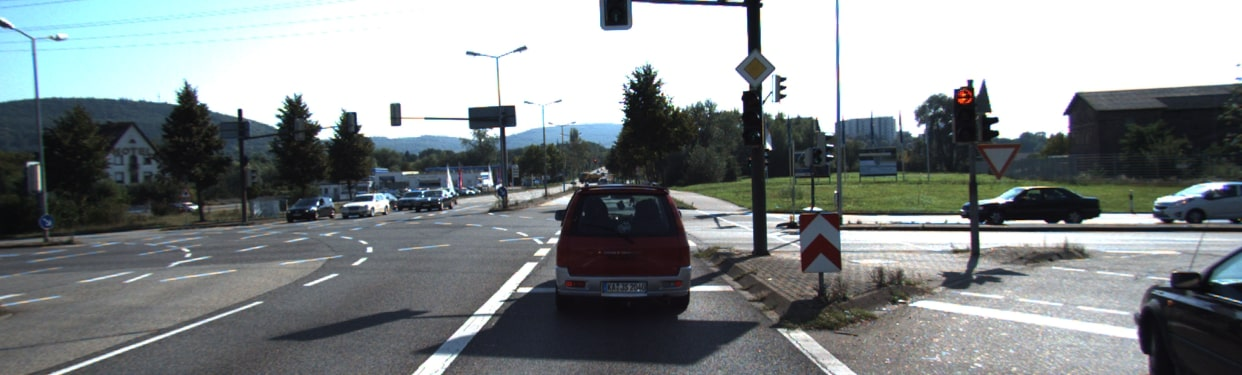car: (556, 185, 692, 314), (1143, 247, 1242, 374), (961, 178, 1103, 235), (1155, 181, 1242, 222), (284, 194, 336, 229), (348, 187, 388, 225), (414, 188, 457, 214), (397, 185, 422, 206)
